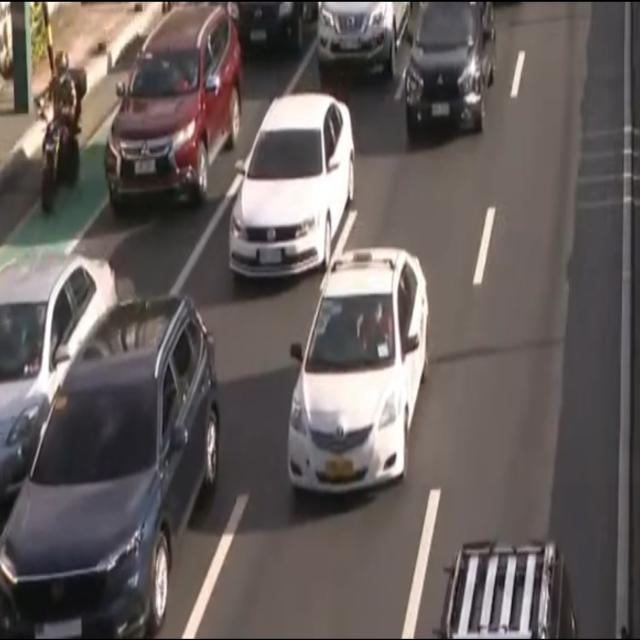Motorcycle: (34, 41, 88, 200)
SUV: (0, 293, 220, 640), (98, 12, 241, 213), (432, 539, 580, 640), (316, 0, 405, 81)
Sedan: (285, 246, 431, 498), (0, 250, 115, 486), (232, 89, 359, 267)
